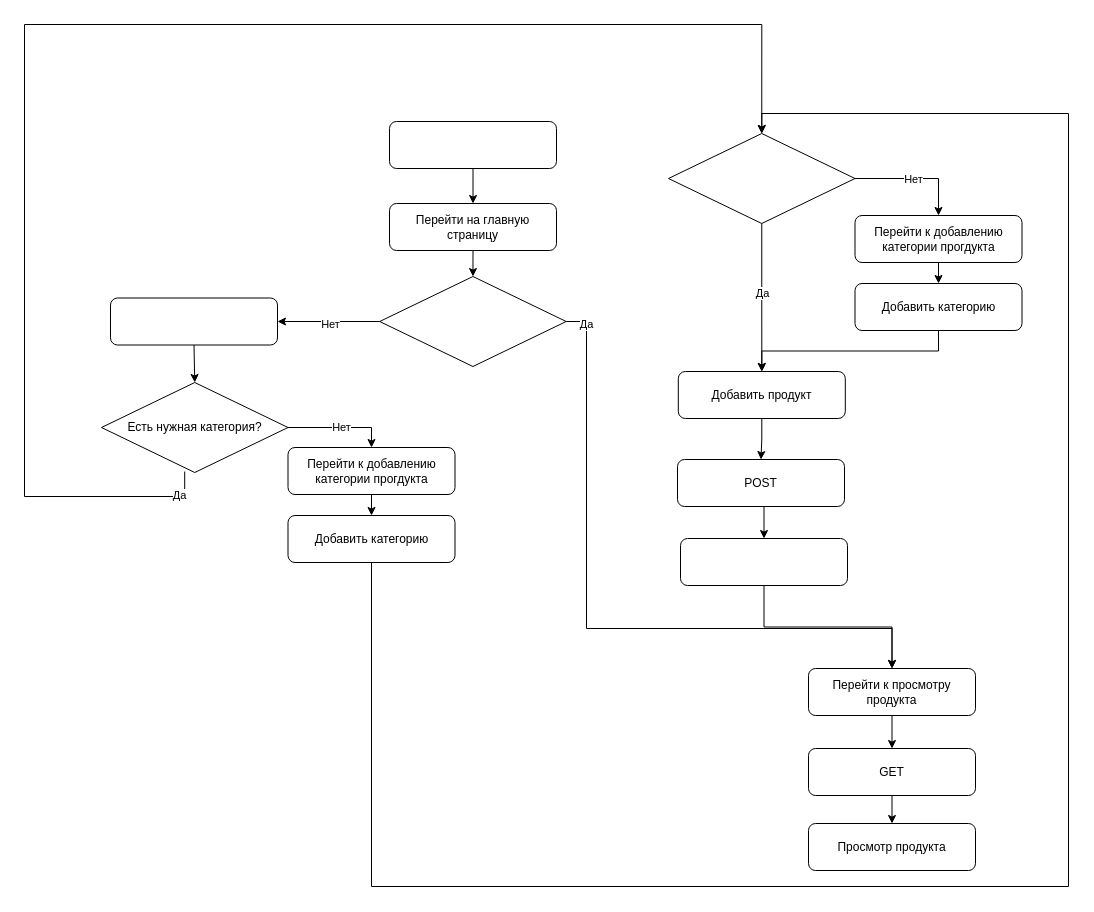
This 1094x912 diagram has some shape labels left out. Here are the shapes that lost their labels. From the top down, the box of each, then its label:
(388, 120, 556, 168): Вход в систему
(668, 132, 855, 224): Есть нужный производитель?
(110, 297, 278, 345): Перейти к добавлению прогдукта
(379, 276, 566, 366): Есть нужный продукт?
(680, 538, 848, 586): Сохранение данных продукта на сервере
